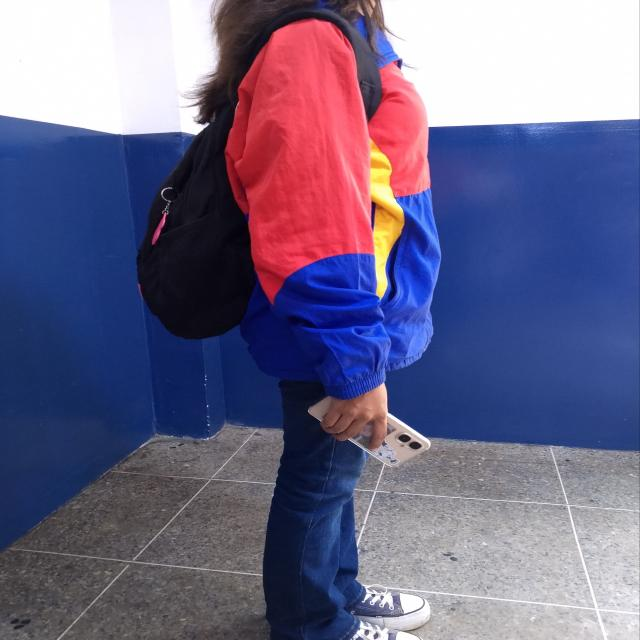chaqueta_unefa: (219, 0, 443, 401)
pantalon_oscuro: (260, 382, 366, 640)
